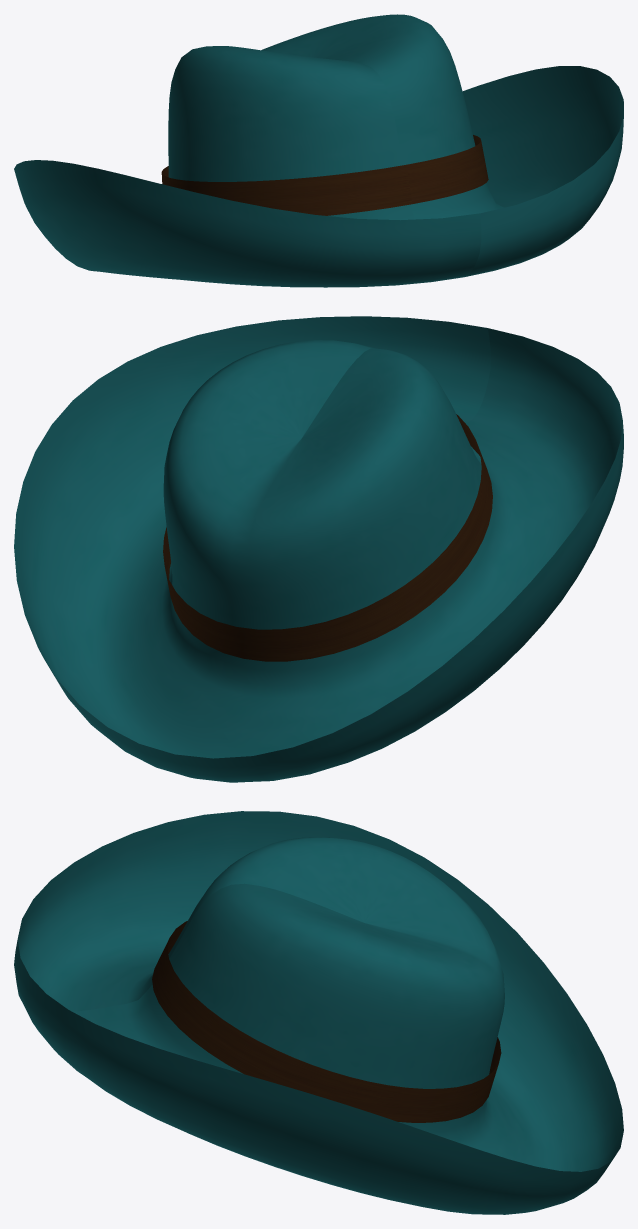
Rendered from hat.ghost-white.gltf.
The picture shows the model from 3 angles, top to bottom: view 1: azimuth 30°, elevation 25°; view 2: azimuth 150°, elevation 25°; view 3: azimuth 270°, elevation 25°; orthographic projection. The views are drawn at different scales.
Visible parts, largest first — view 1: Head; view 2: Head; view 3: Head.
Part boxes in pixels (x1=…): Head: x1=14, y1=14, x2=623, y2=287; Head: x1=14, y1=316, x2=623, y2=782; Head: x1=14, y1=811, x2=623, y2=1214.
Size of the model in its own units: 0.3863 by 0.2168 by 0.3984.
Materials: 1 (1 with a texture image).
